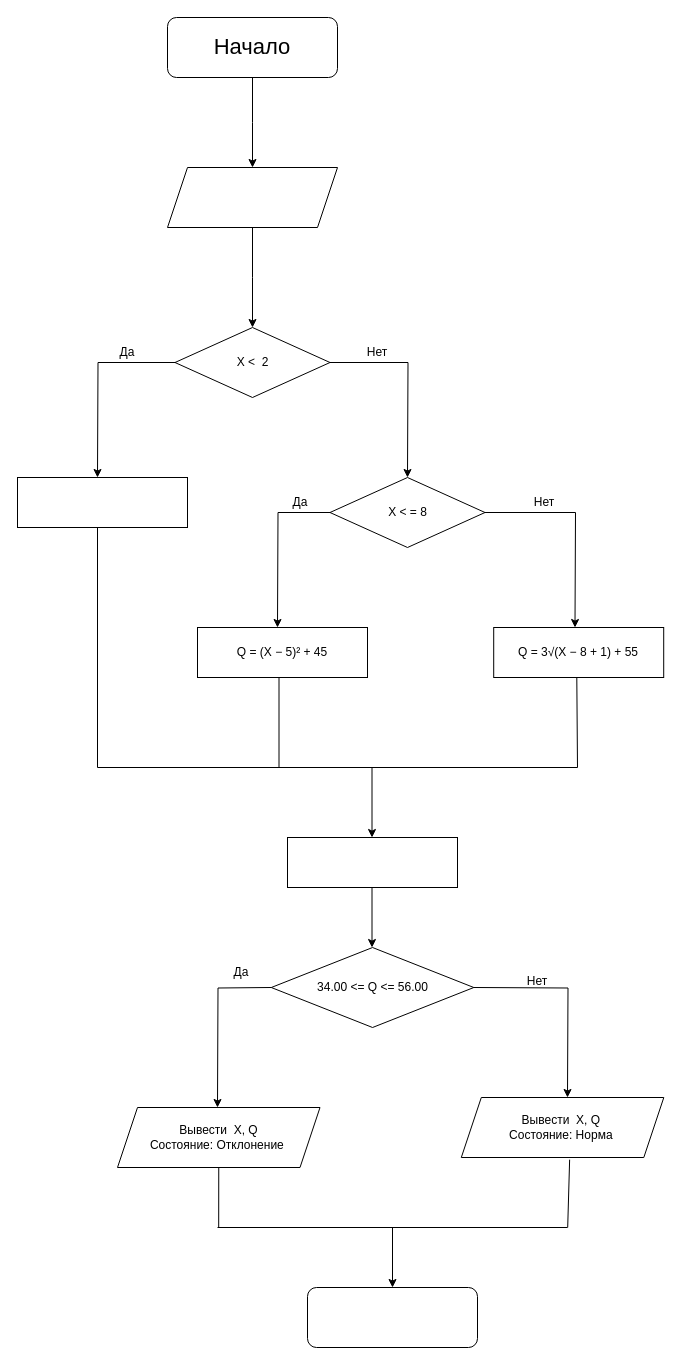
This 682x1365 diagram has some shape labels left out. Here are the shapes that lost their labels. From the top down, the box of each, then its label:
(166, 166, 338, 228): Ввести X
(16, 476, 188, 528): Q = 2(X − 2) + 10
(286, 836, 458, 888): Qmax = Q0 + dQmax Qmin = Q0 - dQmax
(306, 1286, 478, 1348): Конец
